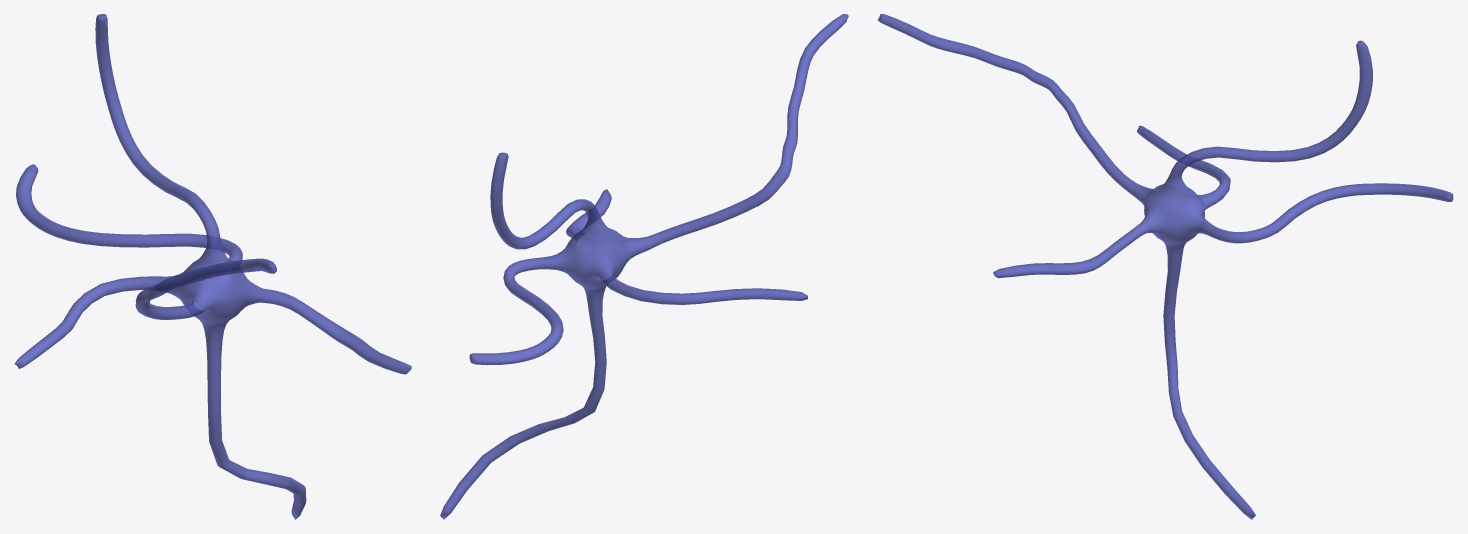
The model's file is CZ_Neuron01.fbx.
3 renders of one model, left to right at view 1: azimuth 30°, elevation 25°; view 2: azimuth 150°, elevation 25°; view 3: azimuth 270°, elevation 25°, orthographic. The views are drawn at different scales.
Visible parts, largest first — view 1: CZ_SingleNeuron01; view 2: CZ_SingleNeuron01; view 3: CZ_SingleNeuron01.
Part boxes in pixels (x1,y1,x2,y2): CZ_SingleNeuron01: (14, 14, 411, 519); CZ_SingleNeuron01: (440, 14, 848, 519); CZ_SingleNeuron01: (877, 14, 1453, 519).
Size of the model in its own units: 2.44 by 3.29 by 4.06.
